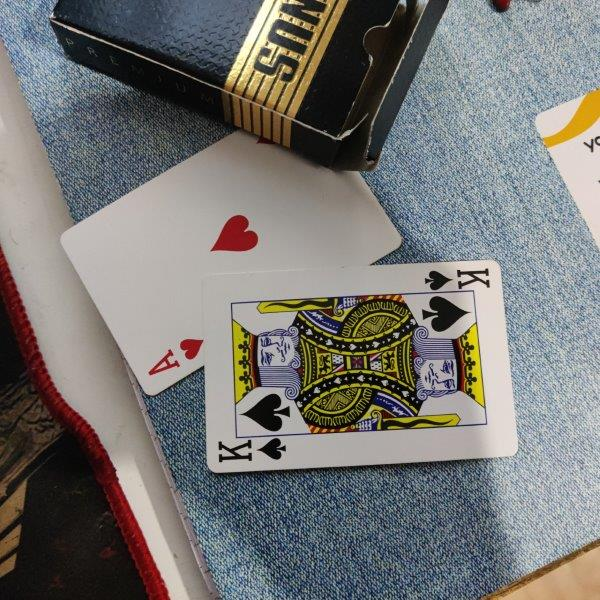Ace of Hearts: (58, 129, 404, 398)
King of Spades: (201, 260, 518, 474)
